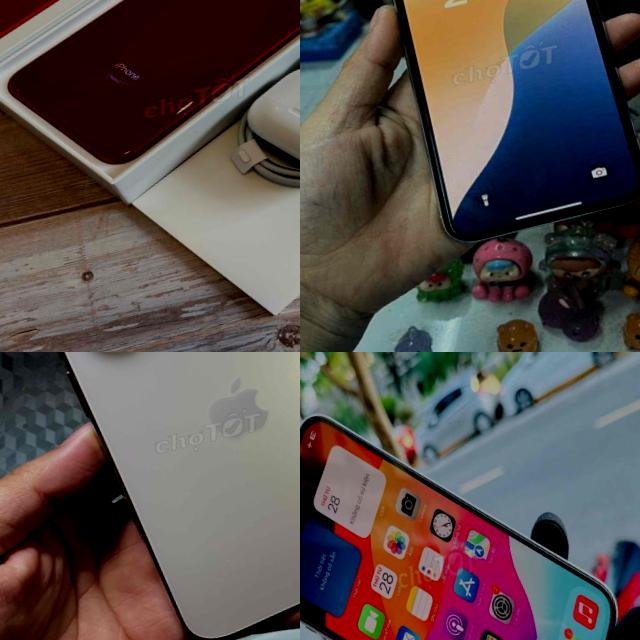gen_12_13: (300, 353, 640, 640)
gen_14: (7, 352, 300, 640)
gen_7_8: (6, 0, 300, 163)
gen_x_xs: (376, 0, 640, 252)
